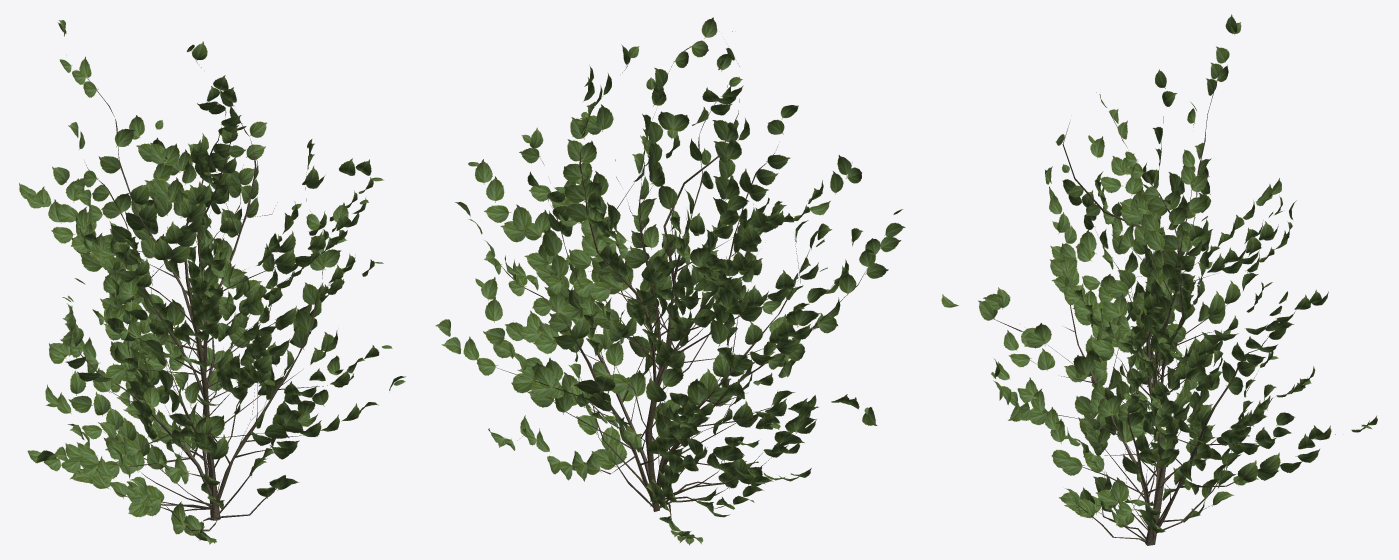
The model's file is green_shrub.glb.
3 renders of one model, left to right at view 1: azimuth 30°, elevation 25°; view 2: azimuth 150°, elevation 25°; view 3: azimuth 270°, elevation 25°, orthographic. The views are drawn at different scales.
Visible parts, largest first — view 1: bark_01_largeF_w; view 2: bark_01_largeF_w; view 3: bark_01_largeF_w.
Part boxes in pixels (x1,y1,x2,y2): bark_01_largeF_w: (19, 20, 405, 544); bark_01_largeF_w: (435, 17, 905, 545); bark_01_largeF_w: (941, 14, 1377, 545).
Size of the model in its own units: 1.4 by 1.78 by 1.5.
2 materials, 2 textured.
